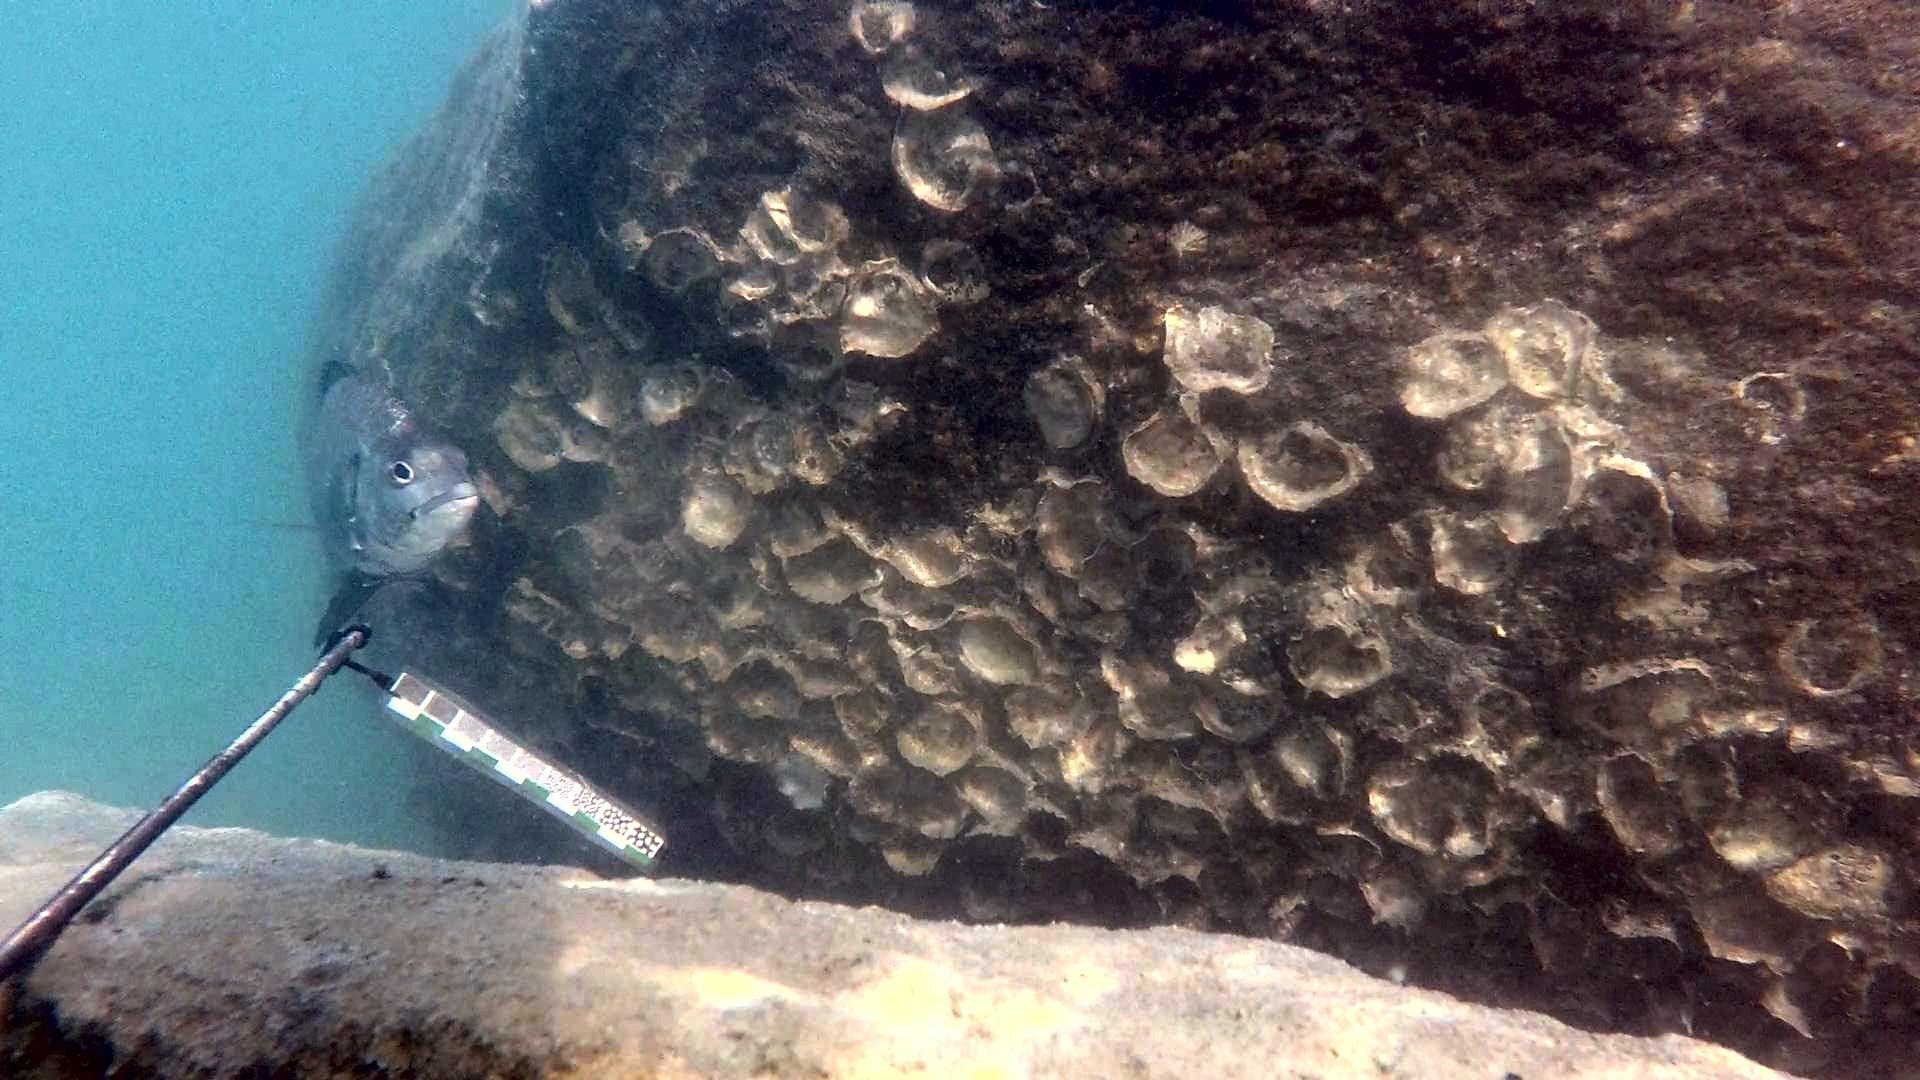acanthopagrus palmaris: (266, 353, 486, 662)
